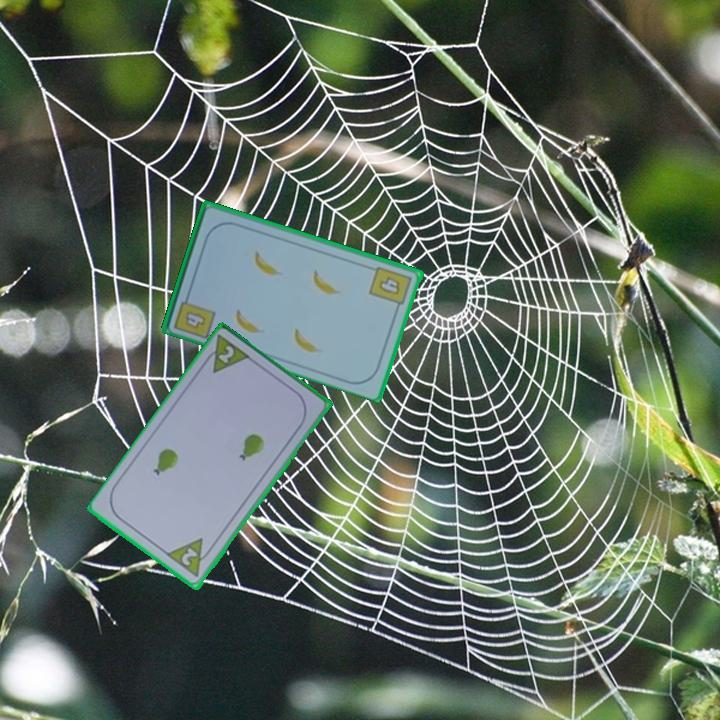2p: (198, 332, 254, 377), (163, 535, 217, 581)
4b: (366, 263, 415, 313), (171, 289, 218, 341)
